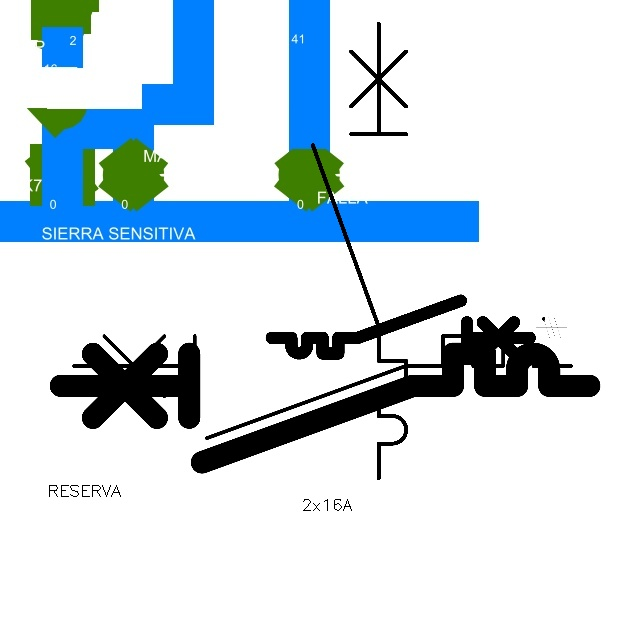interruptor_termomagnetico: (47, 340, 603, 476), (61, 323, 584, 451), (301, 12, 418, 490), (265, 294, 536, 360)
